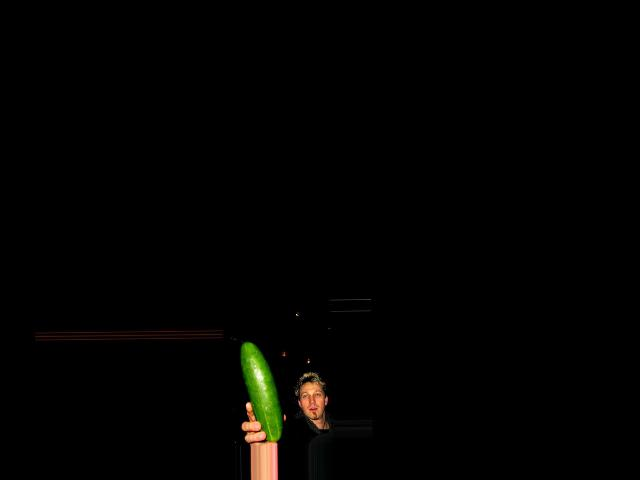cucumber: (239, 341, 282, 441)
